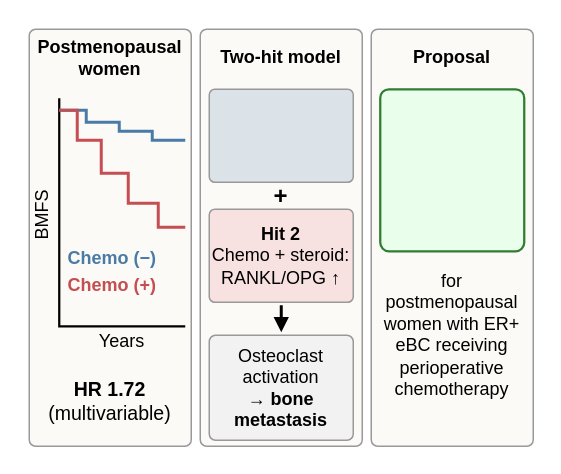
Image size: 561x474. Some labels were removed from this diagram. Each missing label, with the box of its shape:
BMA before chemo (denosumab or BP): (378, 87, 525, 252)
Hit 1 Aged bone: inflammation: (208, 88, 353, 182)
